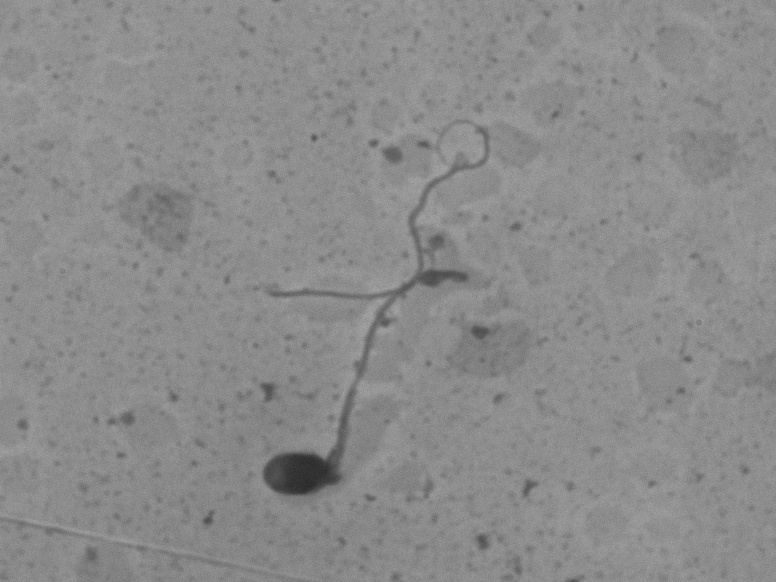Abnormal: (234, 91, 519, 510)
